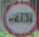Heavy Vehicles: (4, 0, 36, 36)
